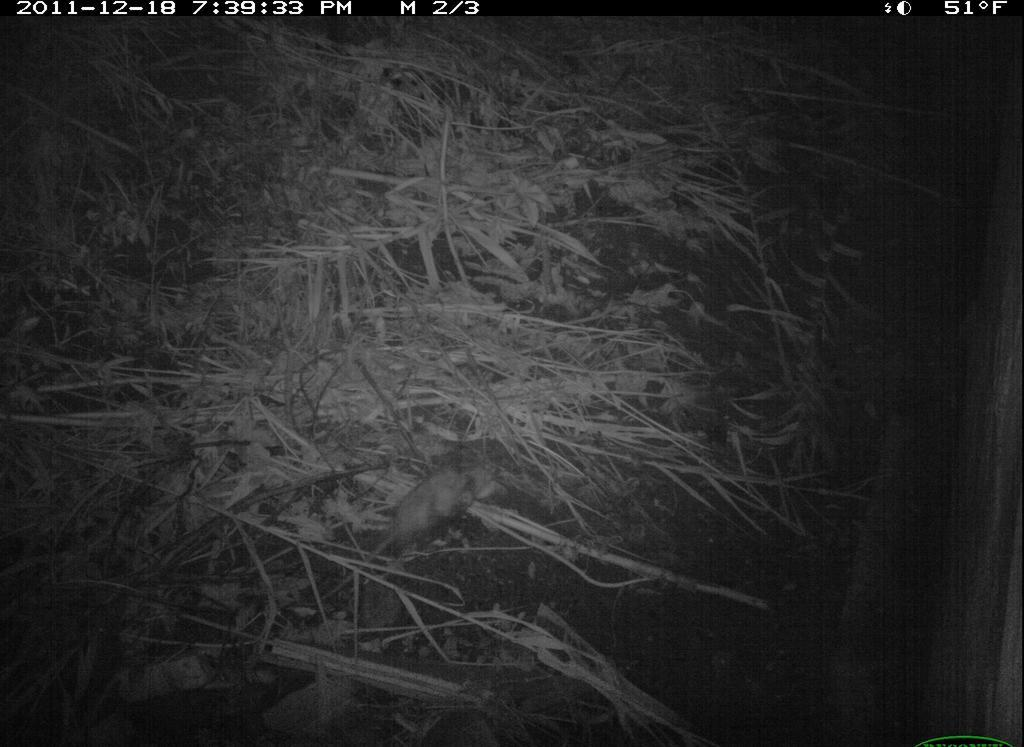opossum: (318, 449, 524, 610)
